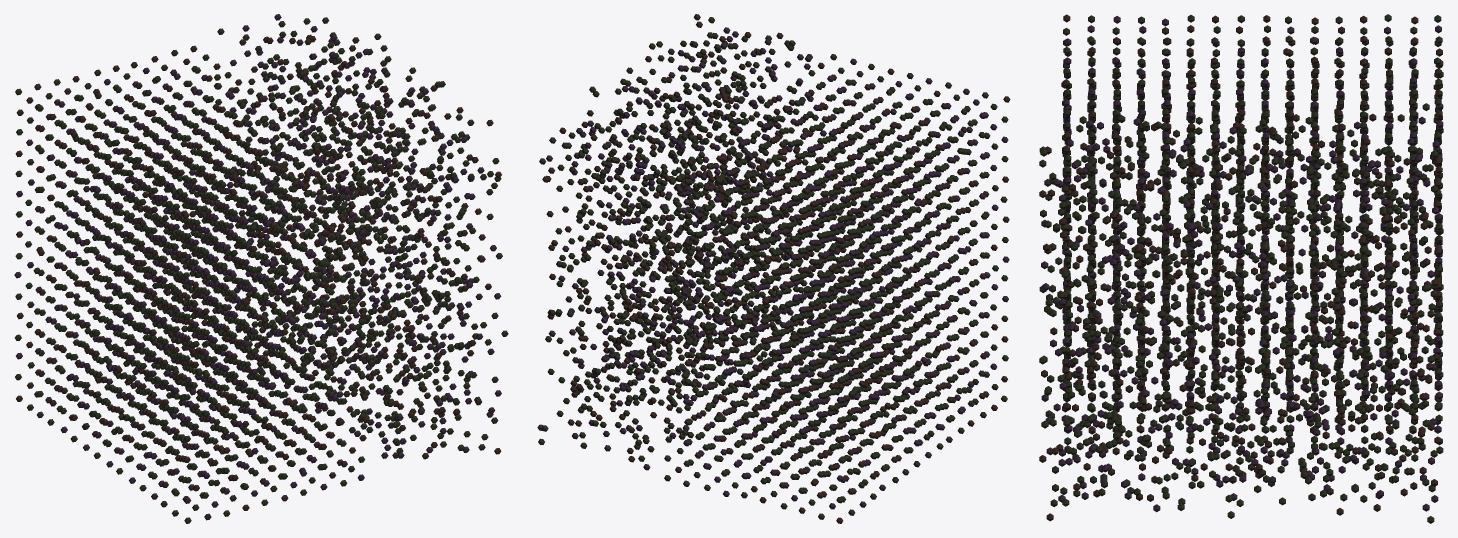
The model's file is elliott_gst_crystallization.glb.
3 views of the same model, side by side, from view 1: azimuth 30°, elevation 25°; view 2: azimuth 150°, elevation 25°; view 3: azimuth 270°, elevation 25° (orthographic). The views are drawn at different scales.
Bounding box in the file's own units: 49.13 × 49.11 × 49.01.
